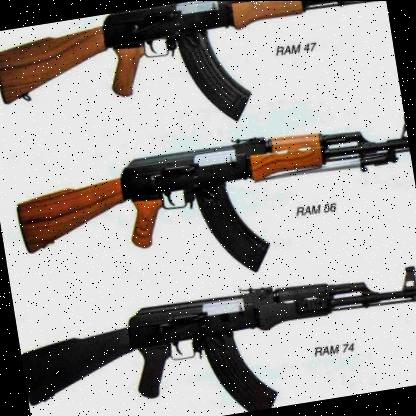rifle: (8, 112, 416, 312), (0, 0, 402, 164), (16, 259, 416, 416)
